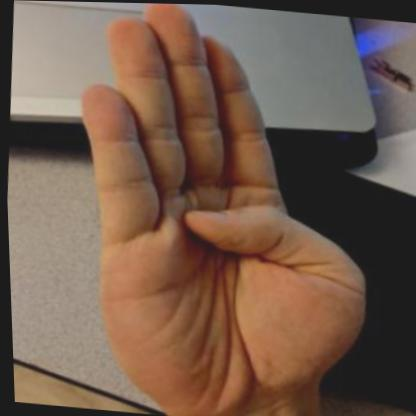B: (23, 0, 416, 416)
